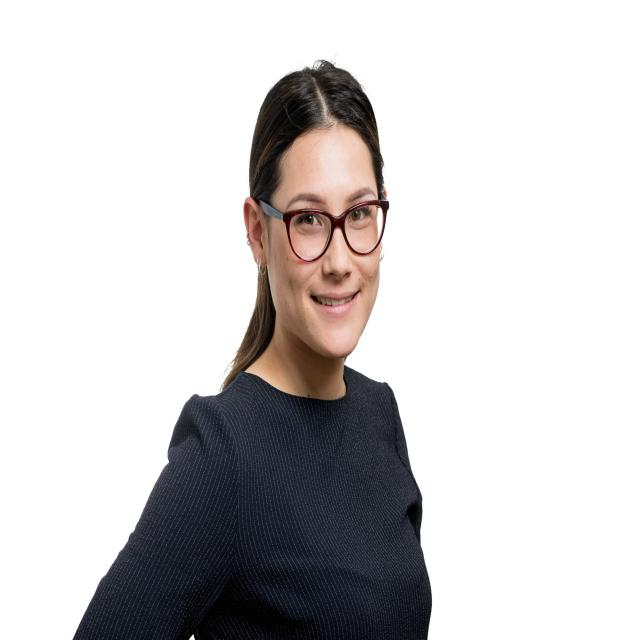nothing: (239, 46, 392, 227)
